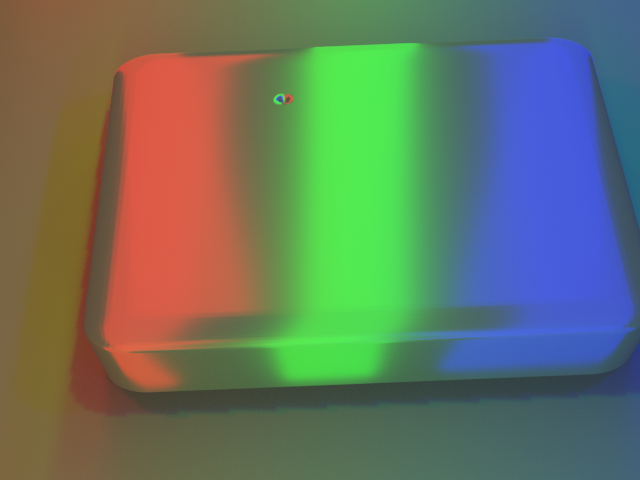dent: (260, 67, 302, 108)
